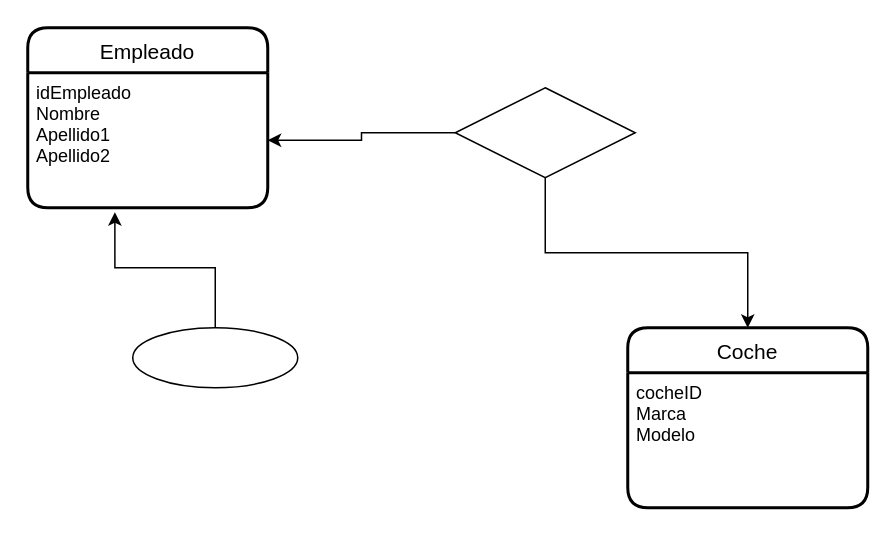
Image size: 894x534. Some labels were removed from this diagram. Each missing label, with the centre of its shape:
"Relationship" belongs at pixel 544 132.
"Telefono" belongs at pixel 214 357.
